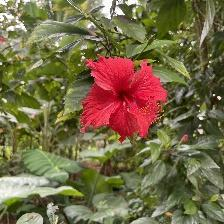hibiscus: (78, 54, 171, 144)
